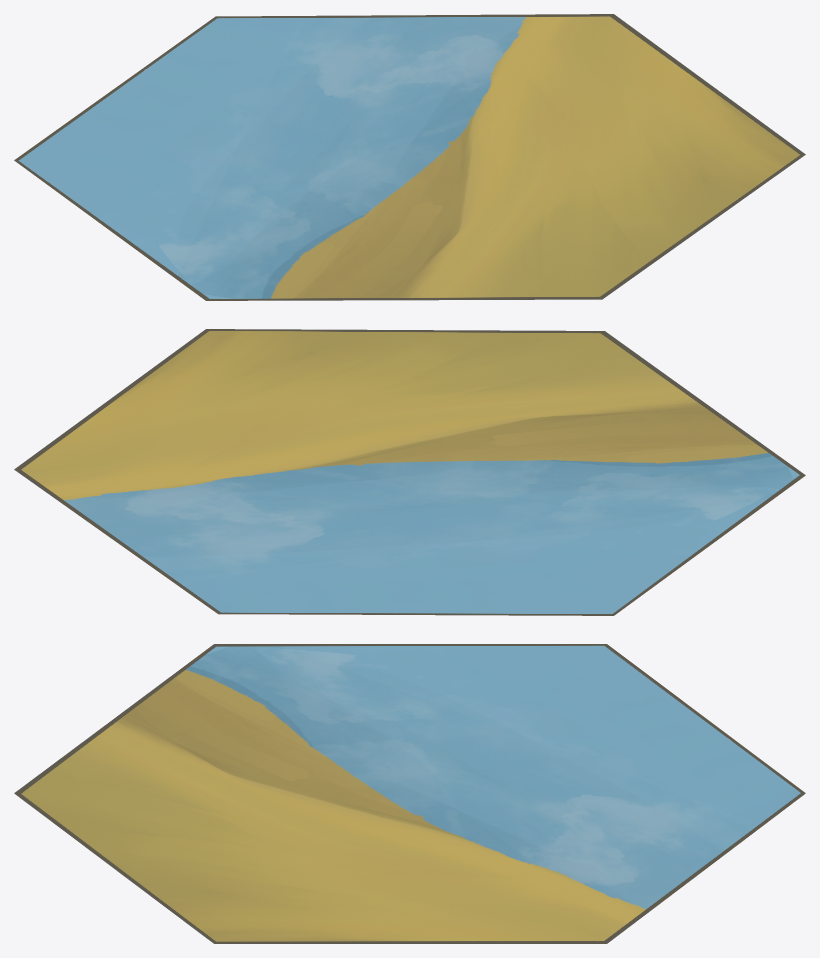
File: Desert Tile.fbx
3 renders of one model, top to bottom at view 1: azimuth 30°, elevation 25°; view 2: azimuth 150°, elevation 25°; view 3: azimuth 270°, elevation 25°, orthographic. The views are drawn at different scales.
Visible parts, largest first — view 1: Plane; view 2: Plane; view 3: Plane.
Part boxes in pixels (<box>): Plane: <box>14,14,805,300</box>; Plane: <box>14,329,805,615</box>; Plane: <box>14,644,805,943</box>.
Bounding box in the file's own units: 179 × 3.26e-05 × 200.
Materials: 1 (1 with a texture image).
